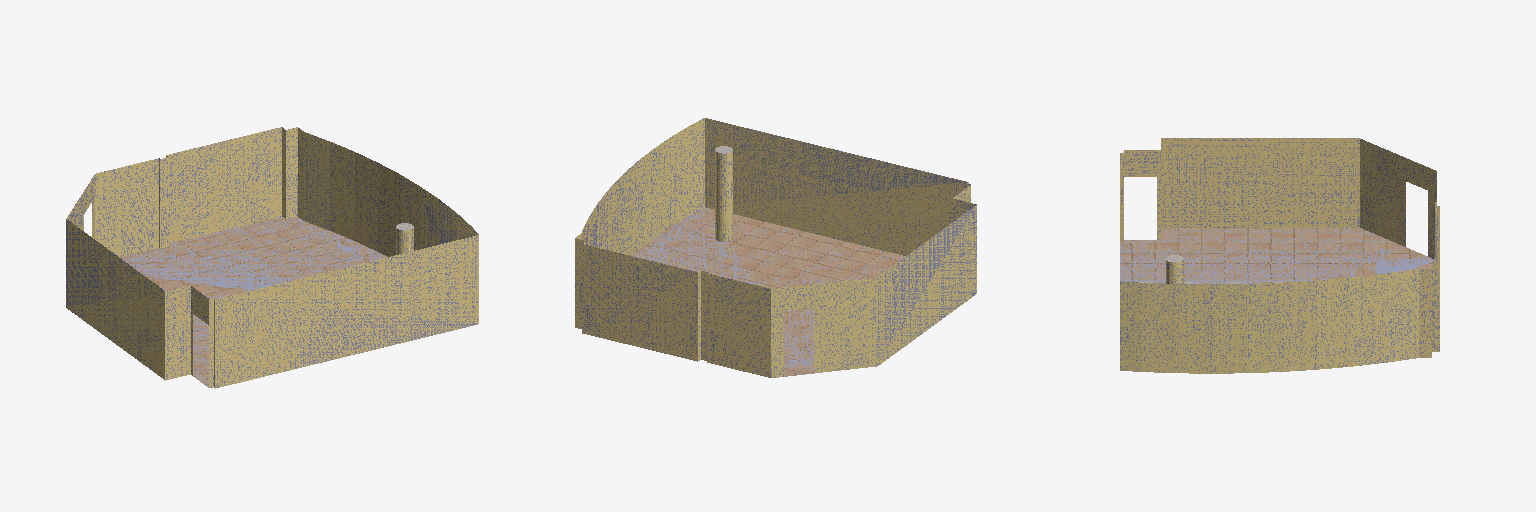
3 renders of one model, left to right at view 1: azimuth 30°, elevation 25°; view 2: azimuth 150°, elevation 25°; view 3: azimuth 270°, elevation 25°, orthographic.
Visible parts, largest first — view 1: Mesh4 Group1 Model; view 2: Mesh4 Group1 Model, Mesh1 Group2 Group1 Model; view 3: Mesh4 Group1 Model.
Boxes of the visible parts, <box> form: Mesh4 Group1 Model: <box>66,127,478,388</box>; Mesh4 Group1 Model: <box>575,118,976,377</box>; Mesh1 Group2 Group1 Model: <box>715,146,732,241</box>; Mesh4 Group1 Model: <box>1120,138,1439,373</box>.
Bounding box in the file's own units: 10.54 × 3 × 9.75.
4 materials, 1 textured.